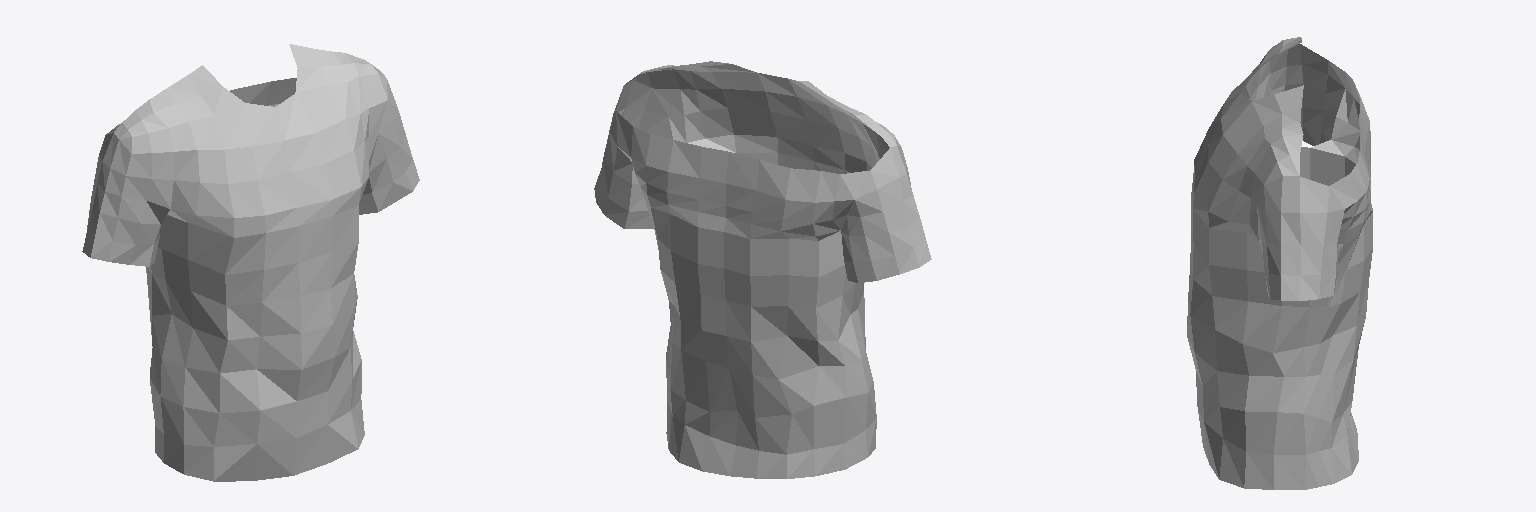
The model's file is shirt_f1.obj.
3 renders of one model, left to right at view 1: azimuth 30°, elevation 25°; view 2: azimuth 150°, elevation 25°; view 3: azimuth 270°, elevation 25°, orthographic.
Visible parts, largest first — view 1: Plane; view 2: Plane; view 3: Plane.
Boxes of the visible parts, <box> form: Plane: <box>82,44,419,481</box>; Plane: <box>594,61,931,478</box>; Plane: <box>1187,37,1372,489</box>.
Bounding box in the file's own units: 5.46 × 6.12 × 2.68.